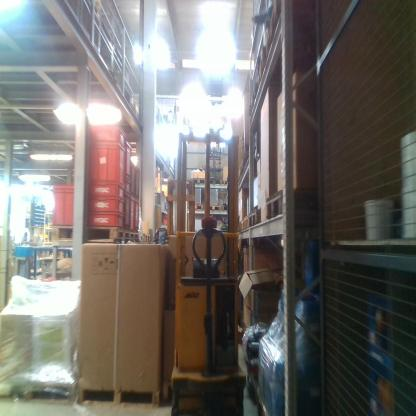pallet: (0, 379, 78, 405), (79, 386, 162, 409), (266, 187, 320, 221), (52, 224, 130, 244), (266, 0, 282, 58), (248, 80, 257, 117), (258, 45, 265, 87), (239, 155, 246, 178), (192, 177, 207, 186), (208, 178, 223, 186), (249, 208, 255, 228), (209, 203, 222, 212), (130, 229, 139, 242), (244, 216, 250, 230), (144, 233, 151, 244), (194, 203, 204, 210), (222, 203, 229, 212), (241, 219, 245, 232)
pallet_truck: (176, 127, 245, 414)
